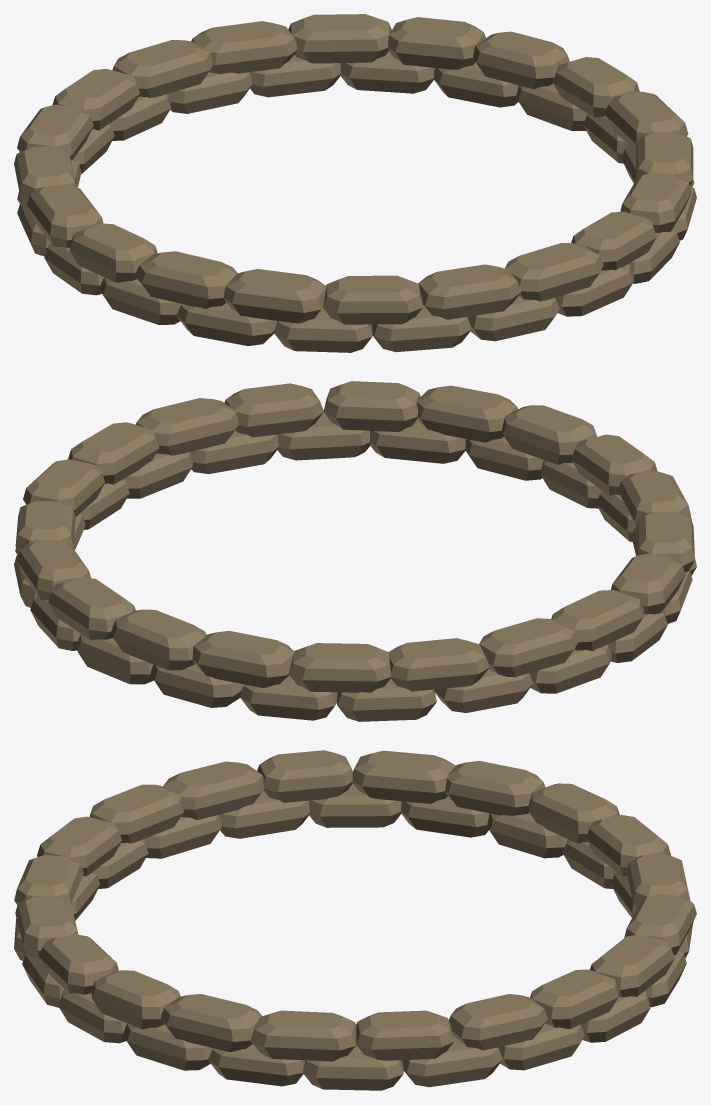
Rendered from blindaje-n1.glb.
The picture shows the model from 3 angles, top to bottom: view 1: azimuth 30°, elevation 25°; view 2: azimuth 150°, elevation 25°; view 3: azimuth 270°, elevation 25°; orthographic projection.
Parts seen in each view (by area): view 1: saco; view 2: saco; view 3: saco.
Part boxes in pixels (x1,y1,x2,y2): saco: [14, 14, 696, 352]; saco: [14, 381, 696, 721]; saco: [14, 750, 696, 1090].
Size of the model in its own units: 1 by 0.095 by 1.
